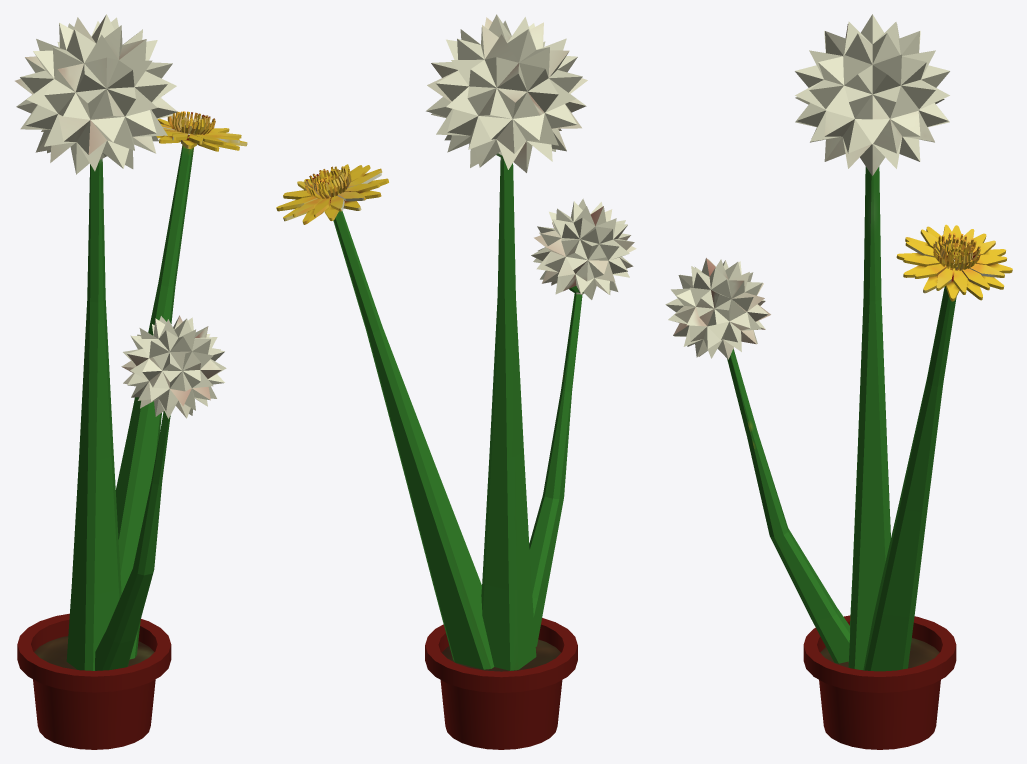
File: Dandelion_lvl_3.glb
3 renders of one model, left to right at view 1: azimuth 30°, elevation 25°; view 2: azimuth 150°, elevation 25°; view 3: azimuth 270°, elevation 25°, orthographic.
Parts seen in each view (by area): view 1: Dandelion_lvl_3; view 2: Dandelion_lvl_3; view 3: Dandelion_lvl_3.
Boxes of the visible parts, x1=… form: Dandelion_lvl_3: x1=15, y1=14, x2=247, y2=749; Dandelion_lvl_3: x1=276, y1=14, x2=636, y2=749; Dandelion_lvl_3: x1=665, y1=14, x2=1012, y2=749.
Bounding box in the file's own units: 2.04 × 5.4 × 2.43.
1 material, 1 textured.
